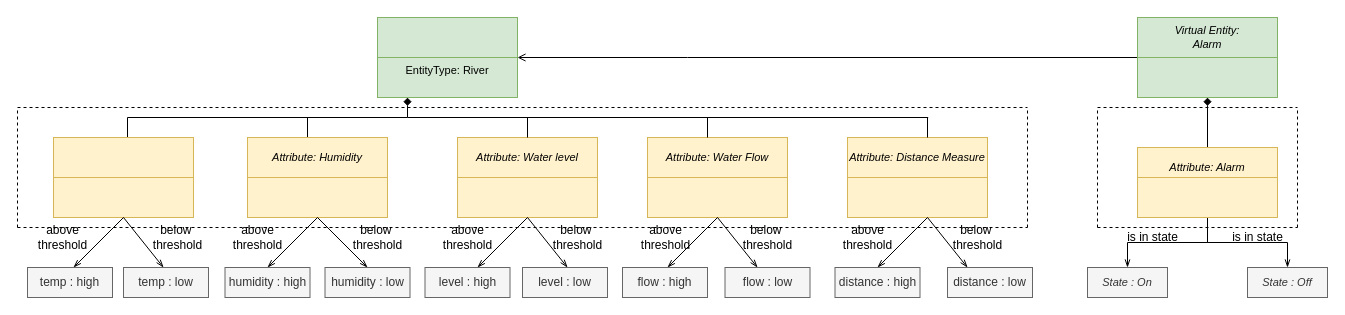
Image size: 1345x315. Some labels were removed from this diagram. Here are the shapes that lost their labels. From the top down, the centre of each, then its label:
At (447,37): "Virtual Entity: River".
At (1207,77): "Entity Type: Alarm ID: Alarm1 RiverID: River1".
At (123,157): "Attribute: Temperature".
At (123,197): "AttributeName: tempValue AttributeType : State".
At (317,197): "AttributeName: humidValue AttributeType : State".
At (527,197): "AttributeName: floatValue AttributeType : State".
At (717,197): "AttributeName: flowValue AttributeType : State".
At (917,197): "AttributeName: distance AttributeType : State".
At (1207,197): "AttributeName: alarm AttributeType : State".
